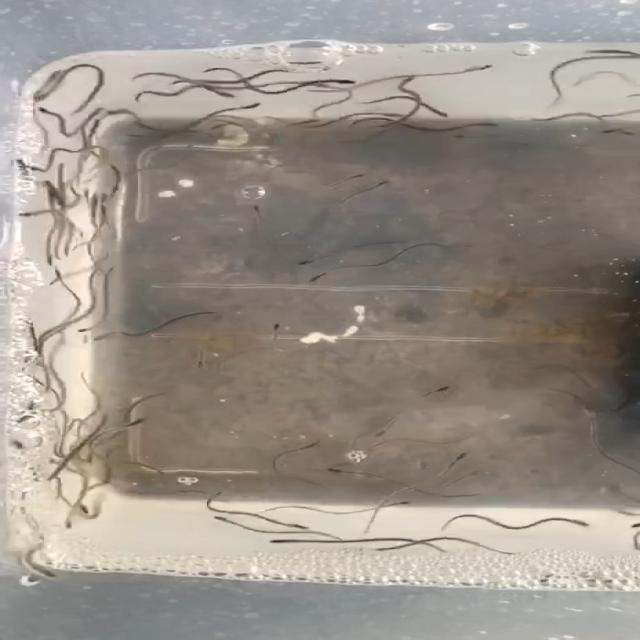inactive_glass_eel: (354, 176, 404, 202), (313, 168, 374, 186), (232, 195, 278, 216), (58, 317, 105, 336), (84, 326, 118, 346), (289, 433, 326, 451), (466, 60, 502, 77), (254, 66, 303, 78), (15, 207, 60, 220), (303, 270, 343, 284), (318, 76, 371, 86), (262, 319, 291, 336), (183, 351, 210, 369), (52, 516, 85, 530), (294, 252, 321, 268), (112, 416, 151, 427), (75, 499, 97, 518), (204, 514, 238, 526), (363, 542, 394, 555), (31, 106, 56, 122), (201, 89, 241, 99), (445, 449, 470, 464), (264, 535, 295, 547), (41, 250, 66, 264), (366, 438, 396, 449), (567, 517, 594, 529), (312, 465, 340, 476), (246, 99, 264, 116), (393, 498, 418, 510), (371, 424, 390, 438), (12, 157, 32, 170), (404, 71, 418, 89), (487, 118, 507, 130), (530, 113, 549, 125), (290, 523, 314, 532), (460, 474, 479, 485)
